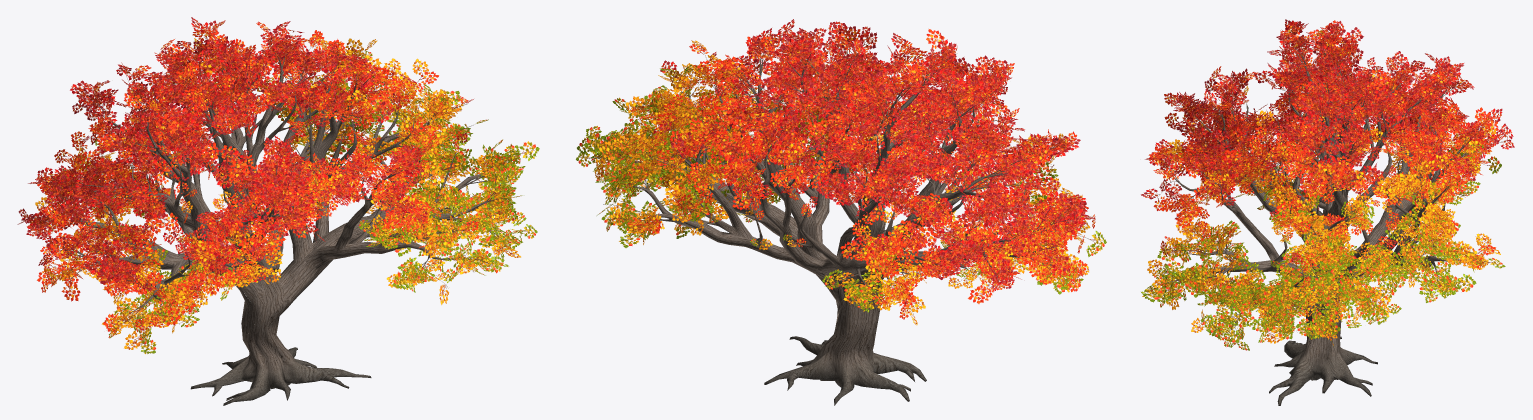
File: Triadica_Autumn_LOD0.glb
The picture shows the model from 3 angles, left to right: view 1: azimuth 30°, elevation 25°; view 2: azimuth 150°, elevation 25°; view 3: azimuth 270°, elevation 25°; orthographic projection. The views are drawn at different scales.
Visible parts, largest first — view 1: Triadica_Autumn_Shoots_LOD0, Triadica_Wood_LOD0; view 2: Triadica_Autumn_Shoots_LOD0, Triadica_Wood_LOD0; view 3: Triadica_Autumn_Shoots_LOD0, Triadica_Wood_LOD0.
Boxes of the visible parts, <box> form: Triadica_Autumn_Shoots_LOD0: <box>17,17,539,353</box>; Triadica_Wood_LOD0: <box>22,31,514,405</box>; Triadica_Autumn_Shoots_LOD0: <box>576,19,1106,325</box>; Triadica_Wood_LOD0: <box>580,36,1093,405</box>; Triadica_Autumn_Shoots_LOD0: <box>1141,19,1514,350</box>; Triadica_Wood_LOD0: <box>1154,30,1505,405</box>.
Bounding box in the file's own units: 16.89 × 11.5 × 12.25.
2 materials, 2 textured.
